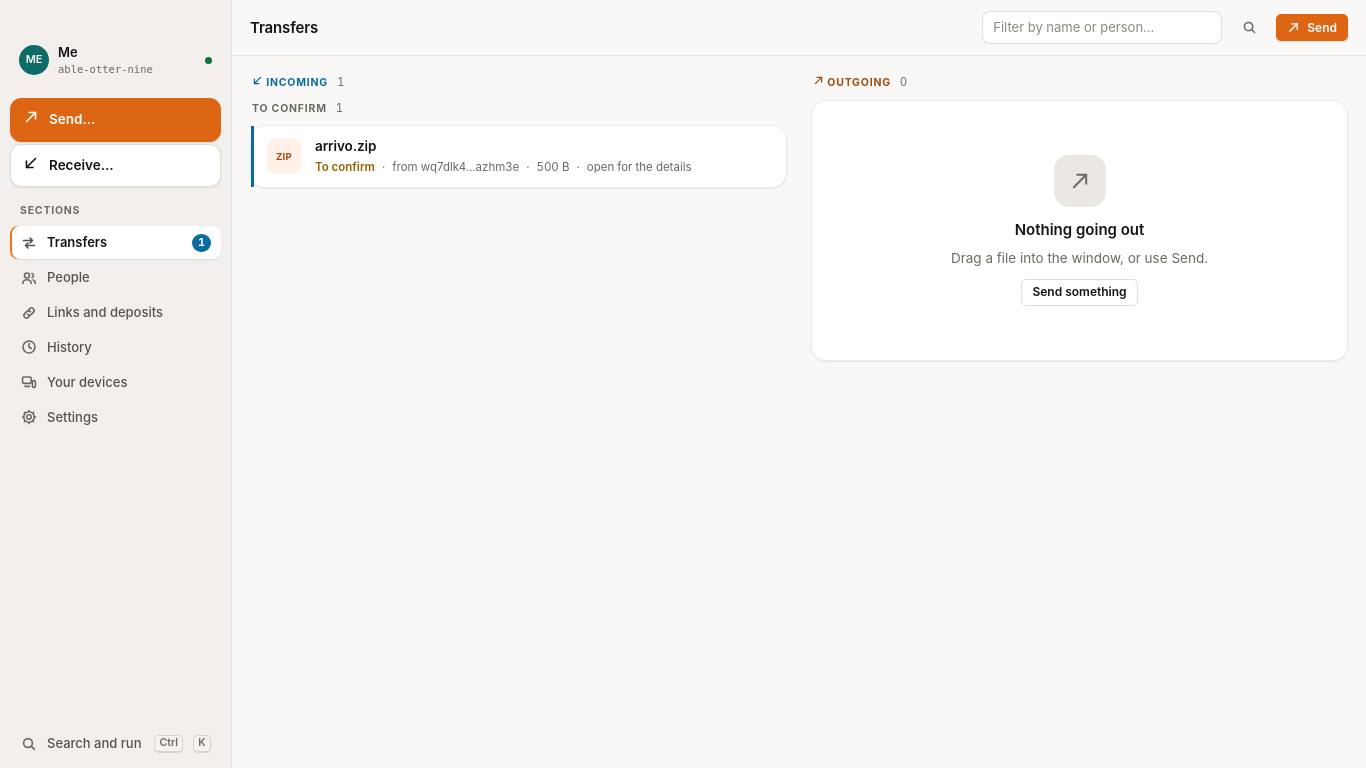
Test: an incoming offer › 108. clicking an arrival opens the decision dialog
Click the text "arrivo.zip": [346, 146] box x1=315 y1=138 x2=376 y2=154
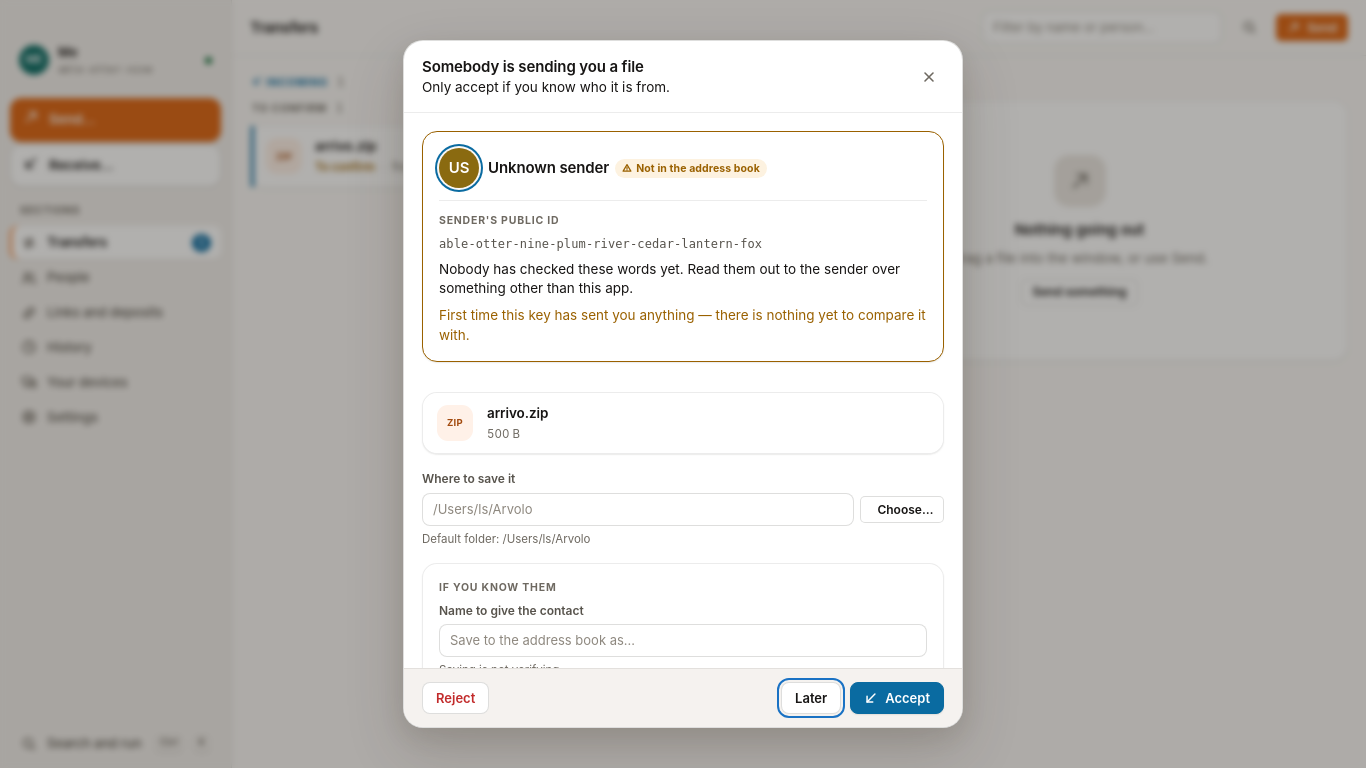
Now the text "Somebody is sending you a file" is shown, box x1=422 y1=57 x2=644 y2=76
